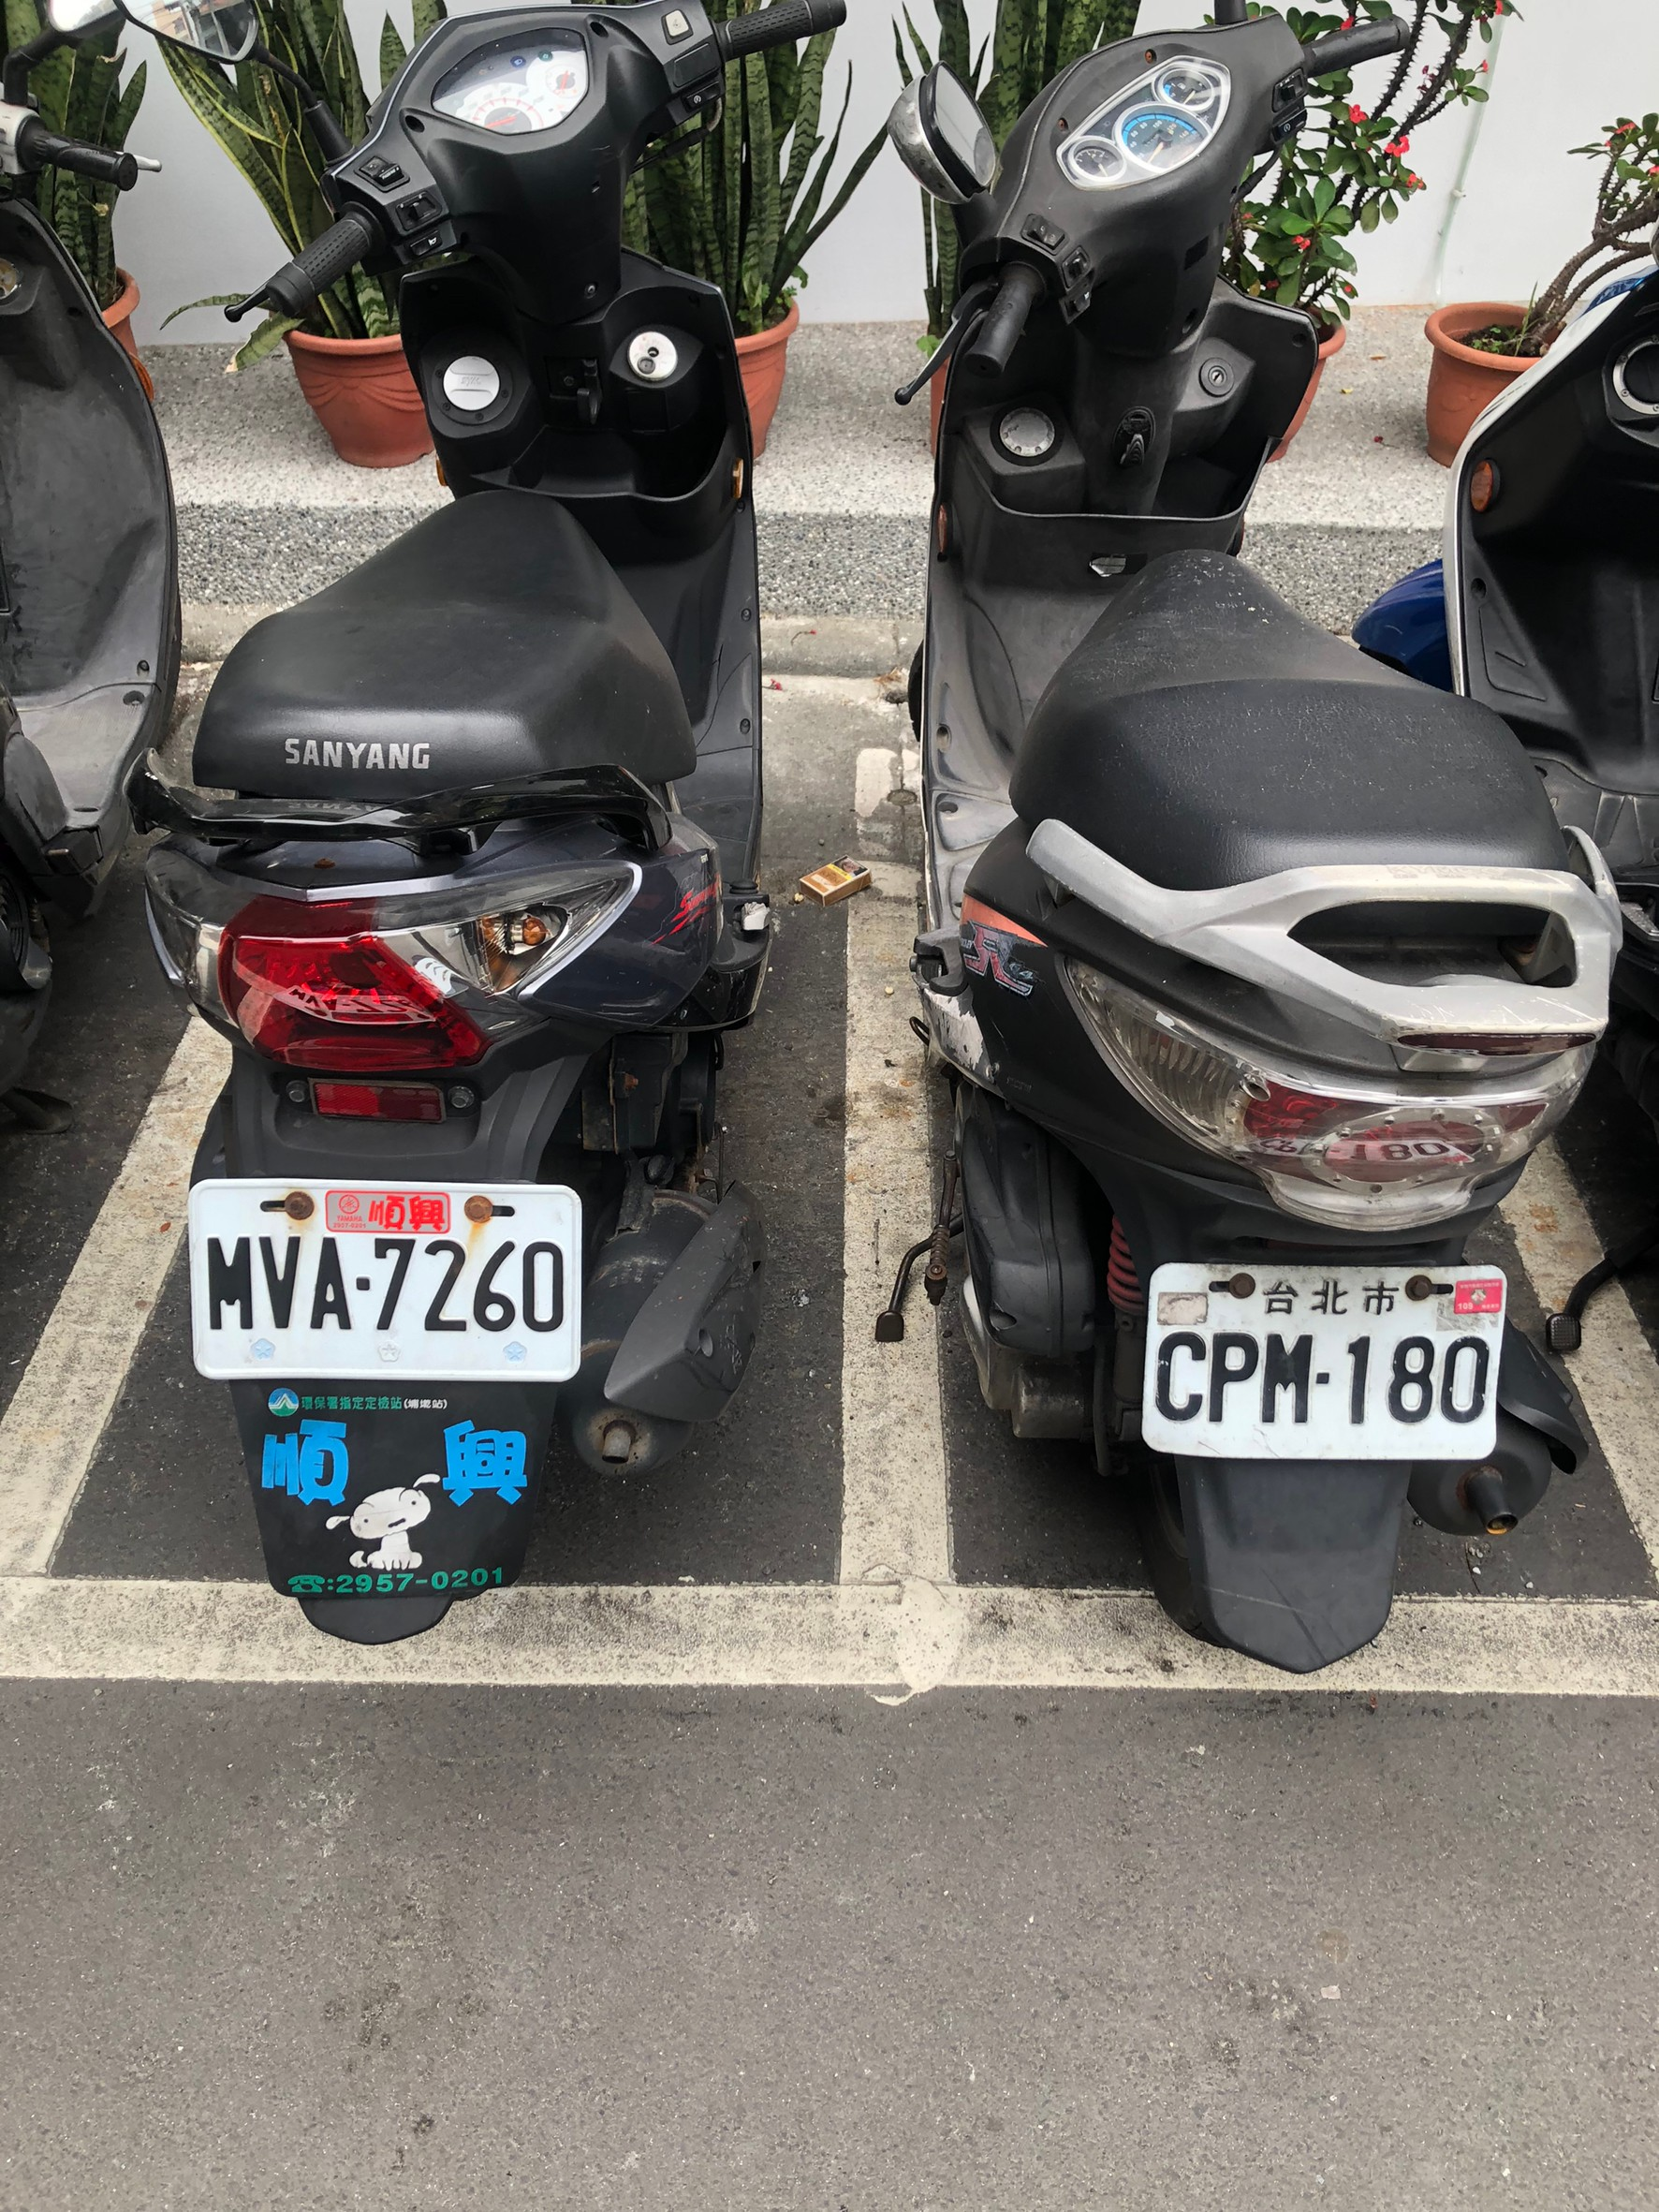LP: (178, 1169, 587, 1388), (1149, 1253, 1505, 1466)
